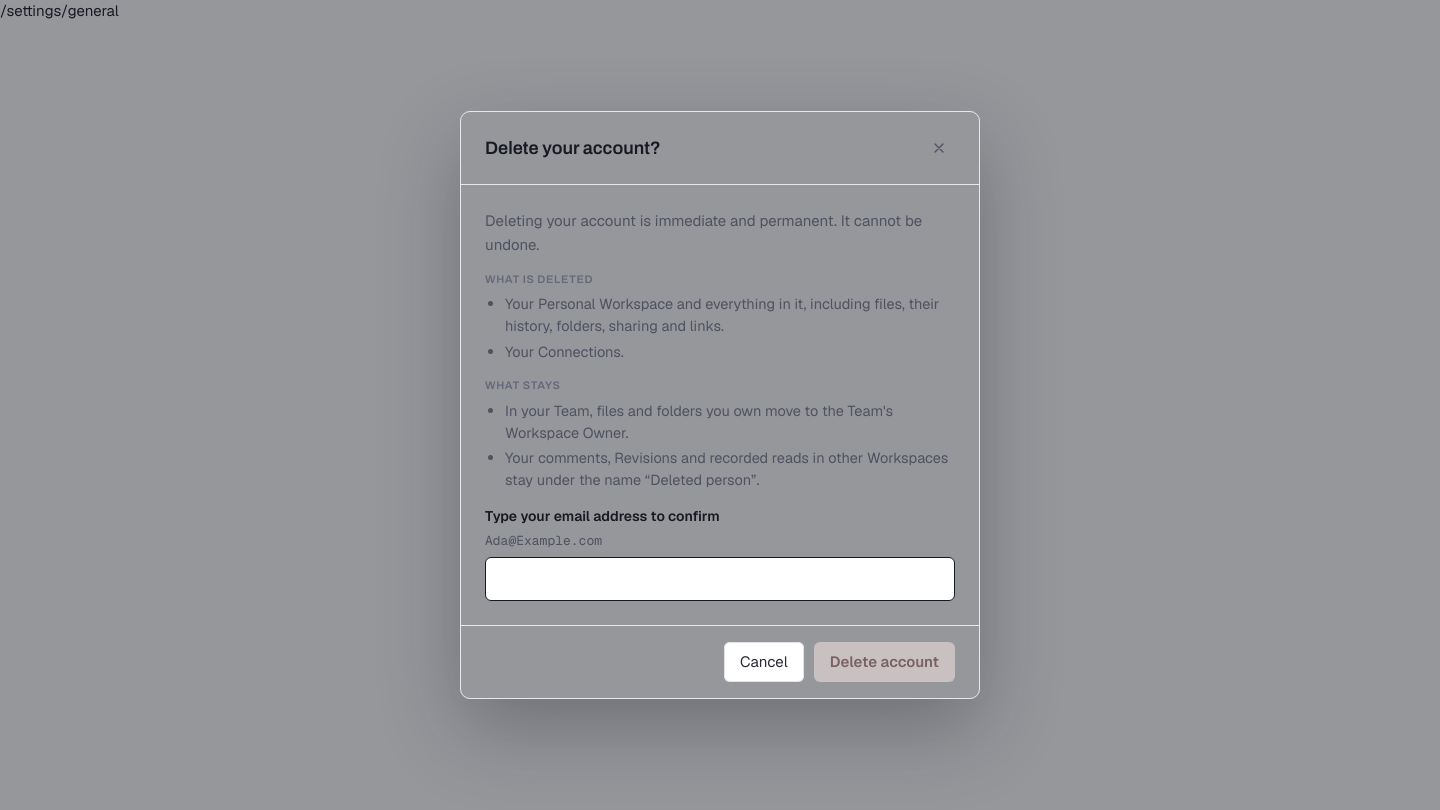
DeleteAccountDialog › goes to sign-in once the account is deleted, with what the session cached dropped
The image size is (1440, 810).
Type "ada@example.com" into the field labelled "Type your email address to confirm" at [720, 579], box [485, 557, 955, 601]
Then press Enter
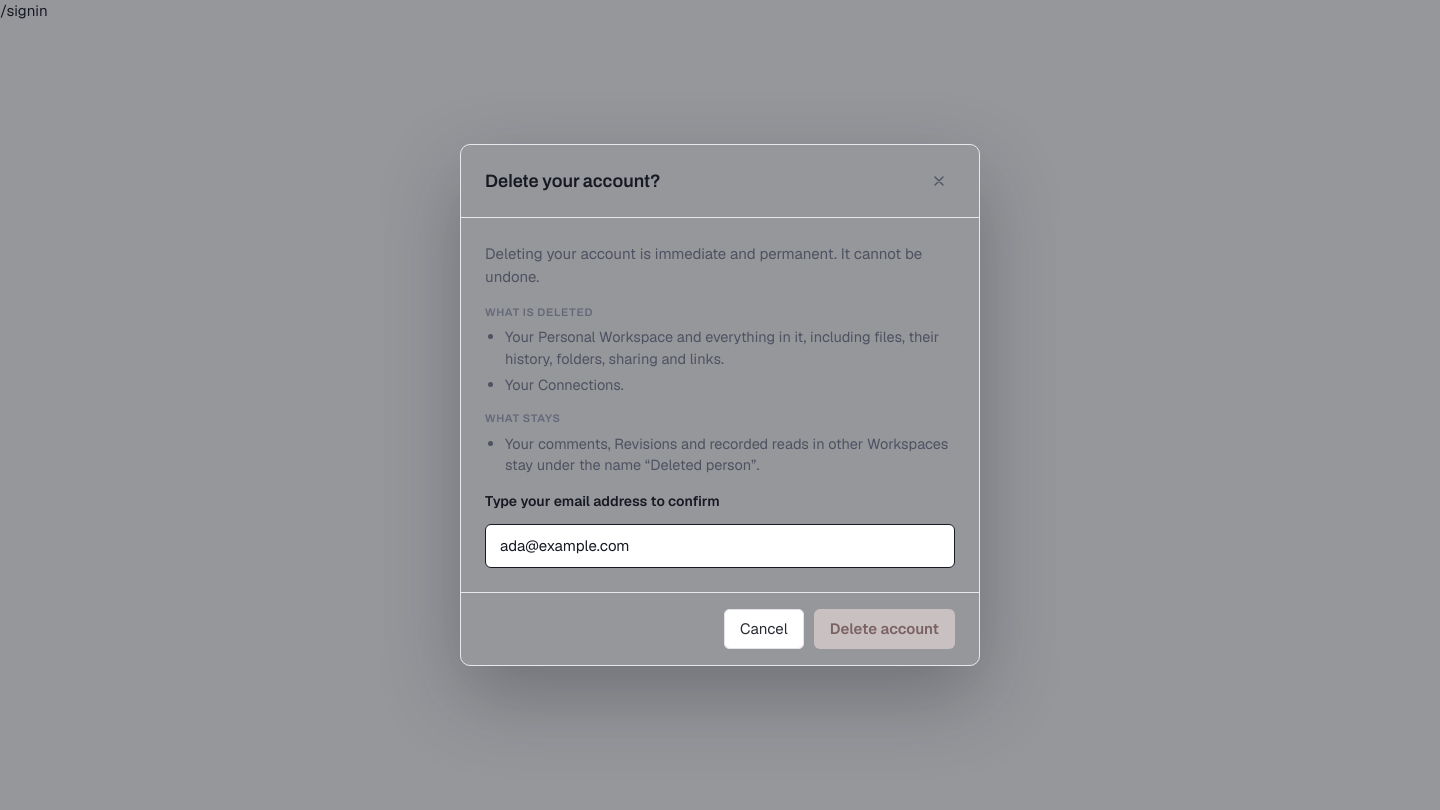
Expected: the text with test id "where" reads "/signin", [0, 1, 48, 20]
